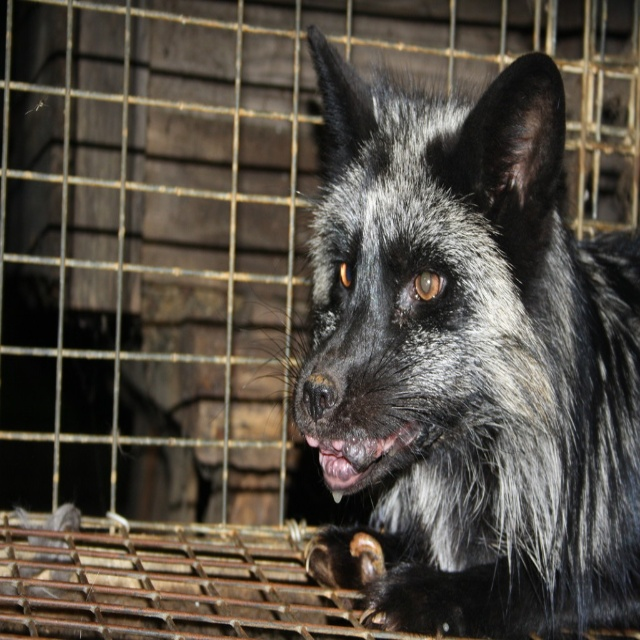Fox: (206, 19, 640, 639)
